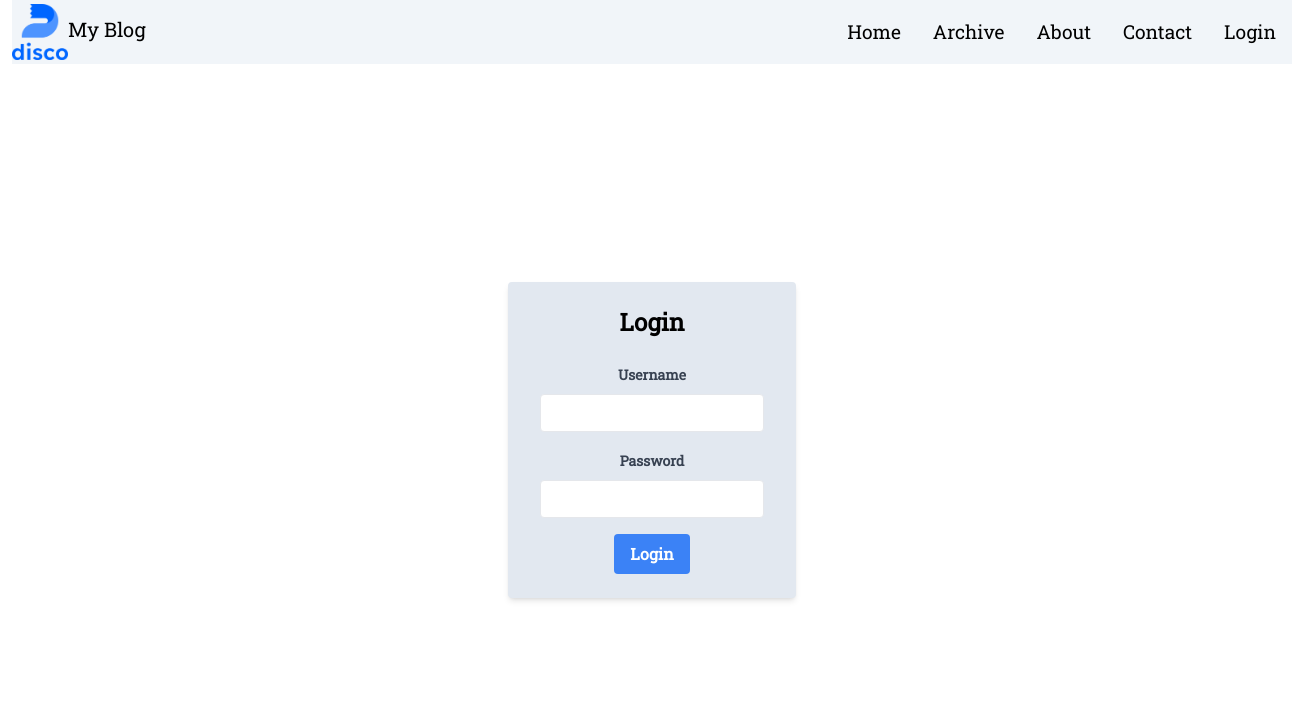
Test case: Login Page › should login successfully with correct data
The image size is (1292, 720).
Type "admin" into the field with id "login-userName" at (652, 413), box [540,394,764,432]
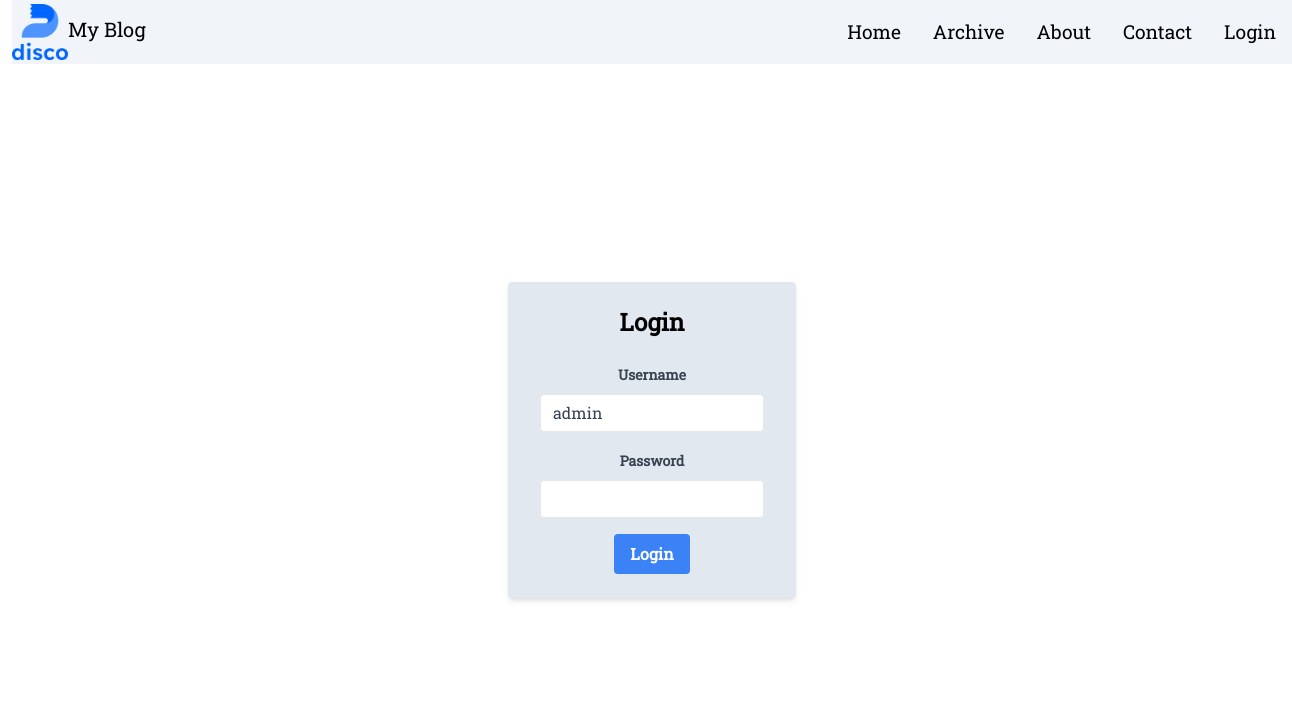
Type "admin" into the password field with id "login-password" at (652, 499), box [540,480,764,518]
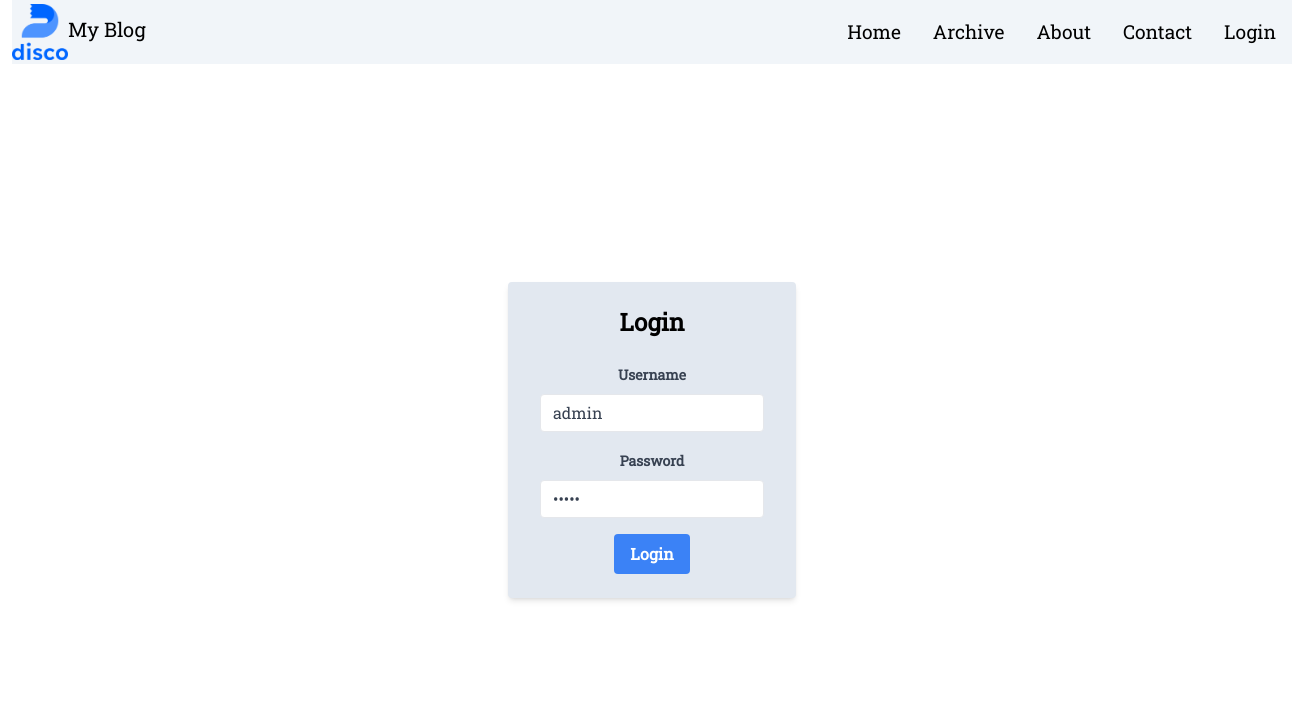
Click the submit button at (652, 554), box [614,534,689,574]
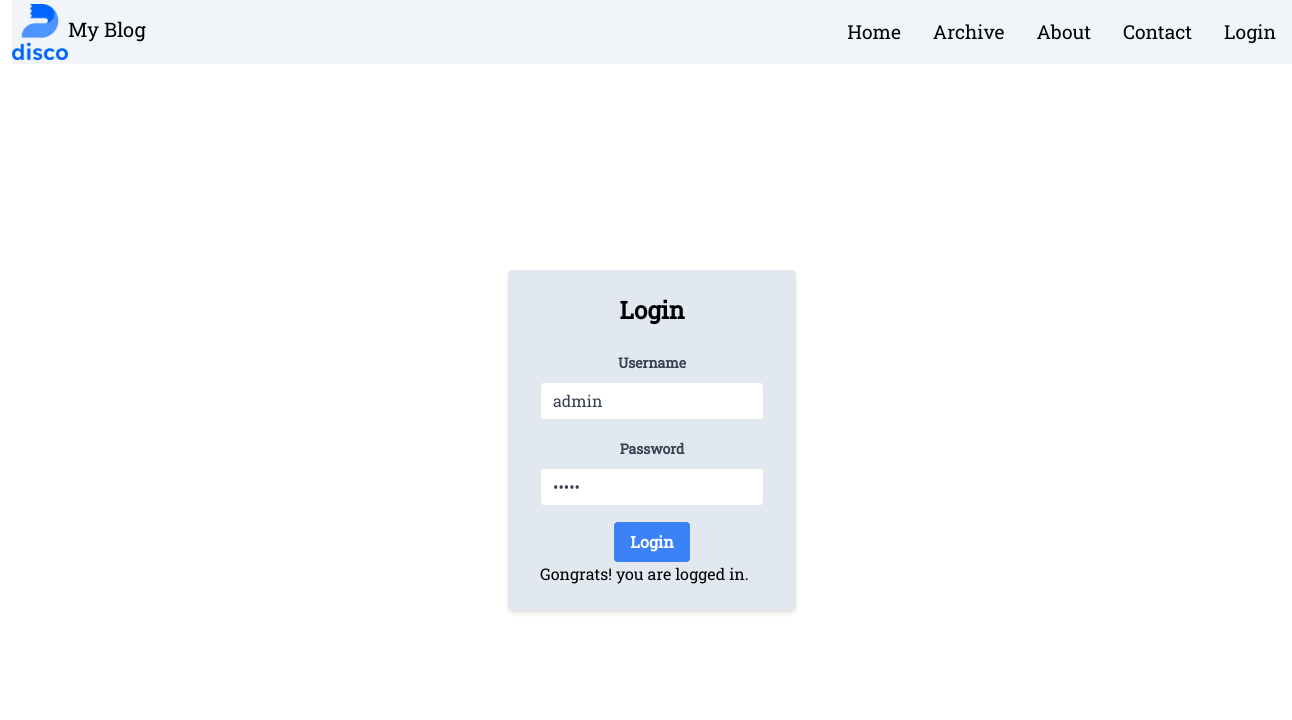
Expected: the text "Gongrats! you are logged in." is shown, [540,562,764,586]
